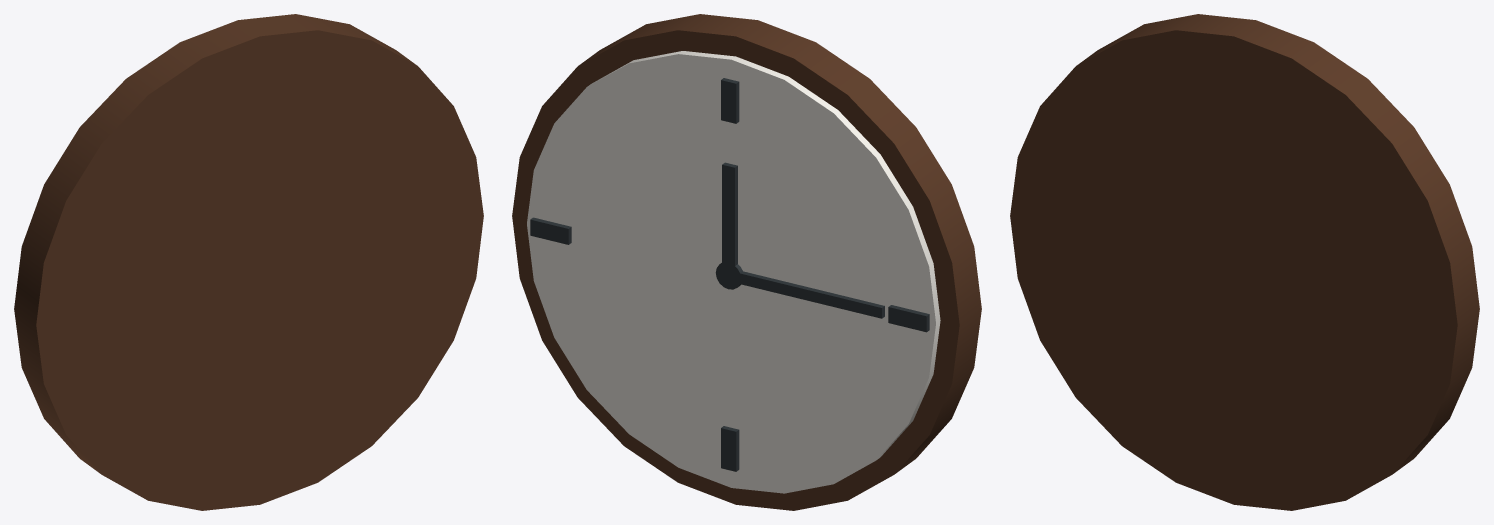
3 views of the same model, side by side, from view 1: azimuth 30°, elevation 25°; view 2: azimuth 150°, elevation 25°; view 3: azimuth 330°, elevation 25° (orthographic).
Visible parts, largest first — view 1: rim; view 2: face, rim, hand-hour; view 3: rim.
Part boxes in pixels (x1,y1,x2,y2): rim: (14,14,483,510); face: (527,51,940,493); rim: (512,14,981,510); hand-hour: (530,78,929,471); rim: (1010,14,1479,510).
Size of the model in its own units: 0.35 by 0.35 by 0.04.
